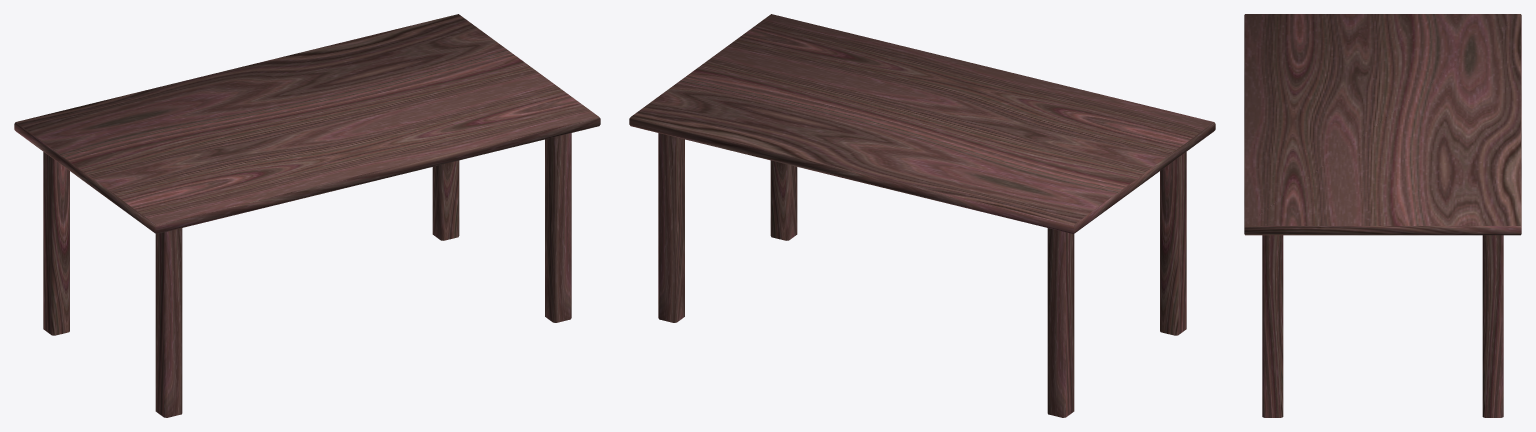
File: Table.fbx
The picture shows the model from 3 angles, left to right: view 1: azimuth 30°, elevation 25°; view 2: azimuth 150°, elevation 25°; view 3: azimuth 270°, elevation 25°; orthographic projection.
Parts seen in each view (by area): view 1: Table; view 2: Table; view 3: Table.
Boxes of the visible parts, x1=… form: Table: x1=14, y1=14, x2=600, y2=417; Table: x1=629, y1=14, x2=1215, y2=417; Table: x1=1244, y1=14, x2=1521, y2=417.
Bounding box in the file's own units: 0.7779 × 0.3411 × 0.4279.
Materials: 1 (1 with a texture image).
